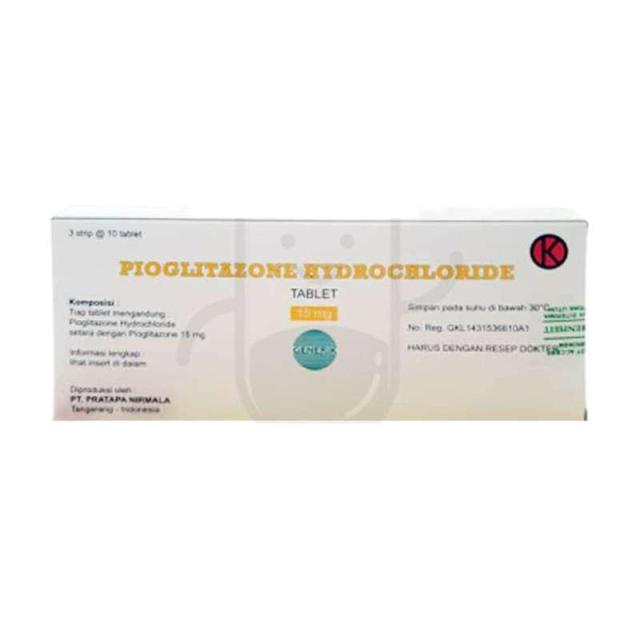drug-name: (115, 252, 522, 286)
